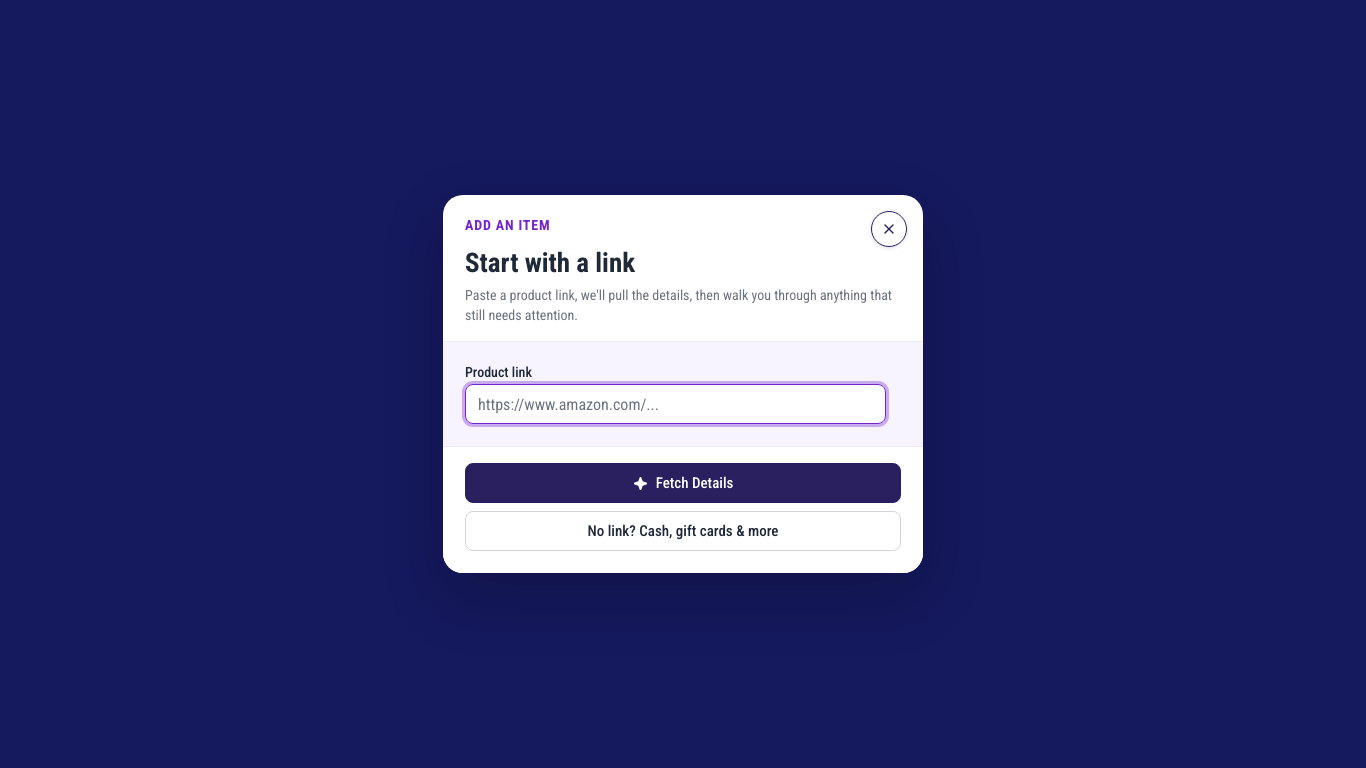
Test: ItemFormContainer › LinklessDoor › DoorDeck_HasNoStoreStepAndEmptyTitleBlocks
Click the button "No link? Cash, gift cards & more" at (683, 531), box [465, 511, 901, 551]
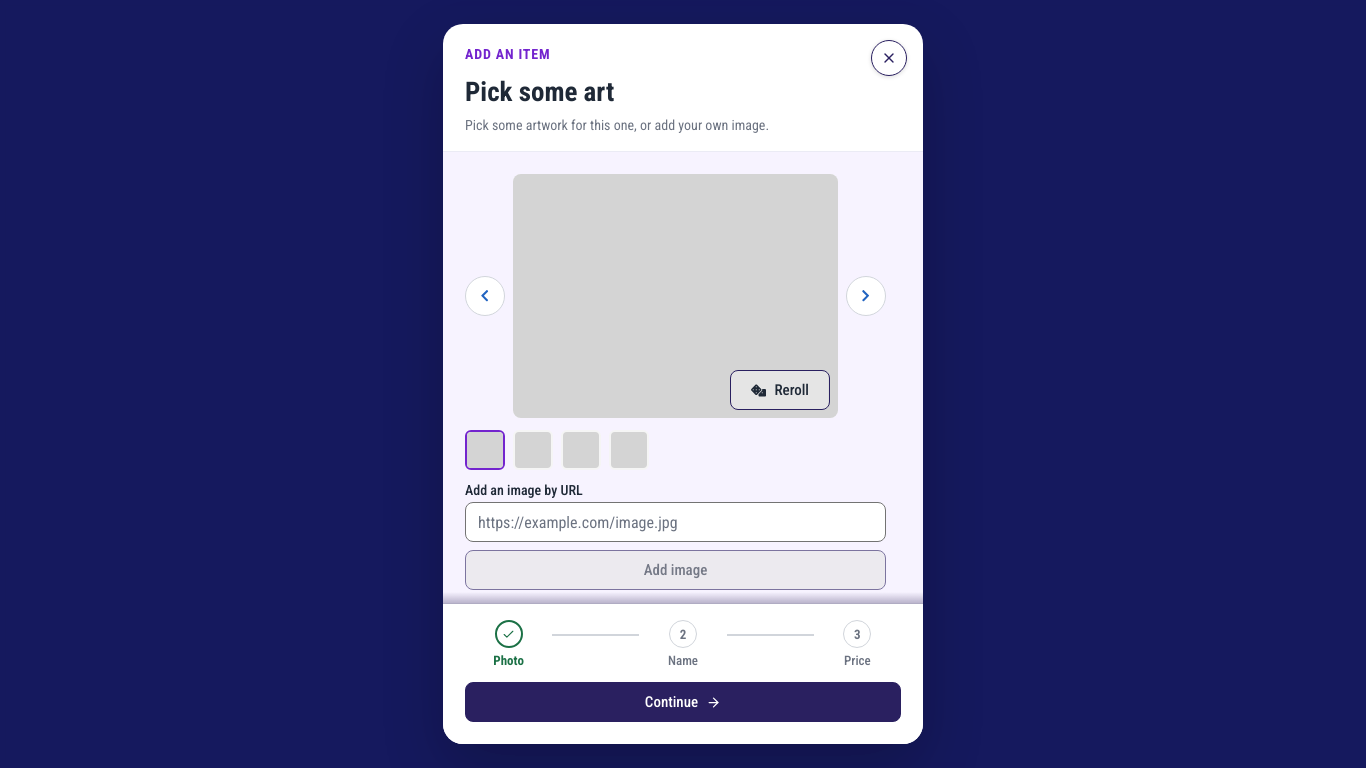
Click the button "Continue" at (683, 702), box [465, 682, 901, 722]
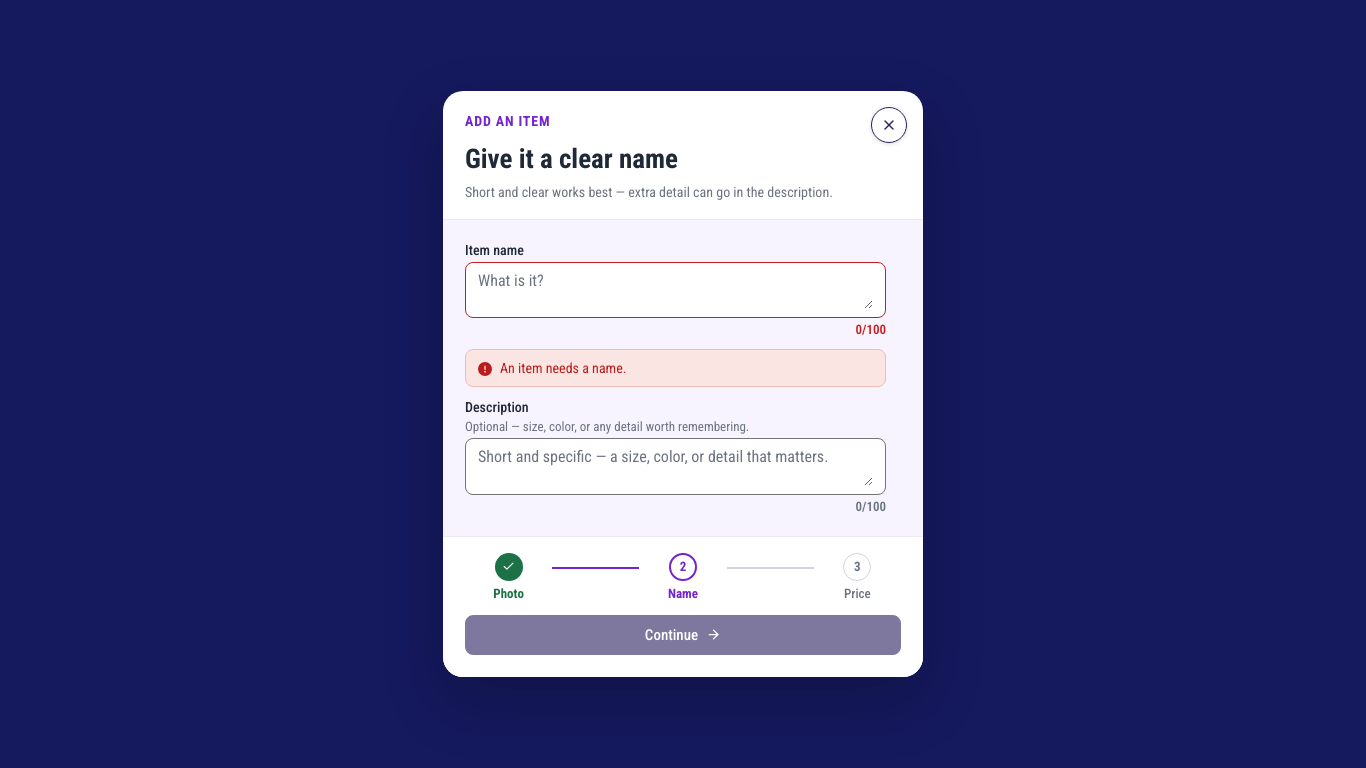
expect the heading "Give it a clear name" is shown: met, box [465, 144, 678, 176]
expect the button "Continue" is disabled: met, box [465, 614, 901, 654]
